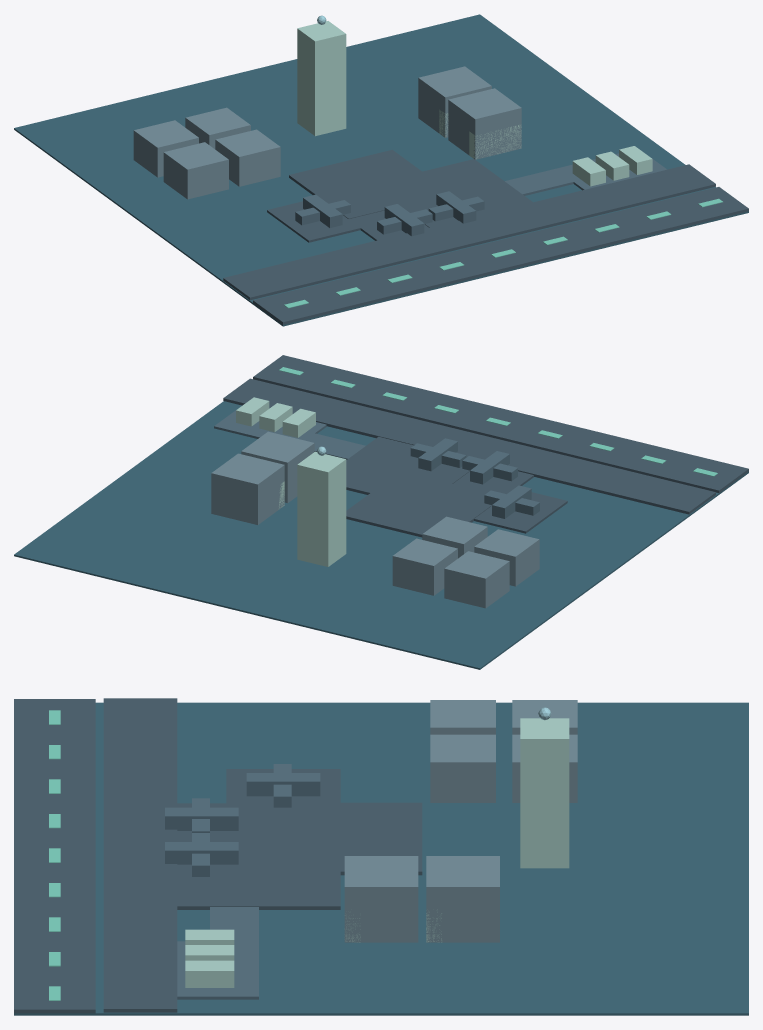
File: stage_15.glb
3 views of the same model, one above another, from view 1: azimuth 30°, elevation 25°; view 2: azimuth 150°, elevation 25°; view 3: azimuth 270°, elevation 25° (orthographic). The views are drawn at different scales.
Visible parts, largest first — view 1: geometry_0; view 2: geometry_0; view 3: geometry_0.
Part boxes in pixels (x1,y1,x2,y2): geometry_0: (14,14,748,326); geometry_0: (14,355,748,669); geometry_0: (14,698,748,1015).
Bounding box in the file's own units: 9 × 2.06 × 9.
